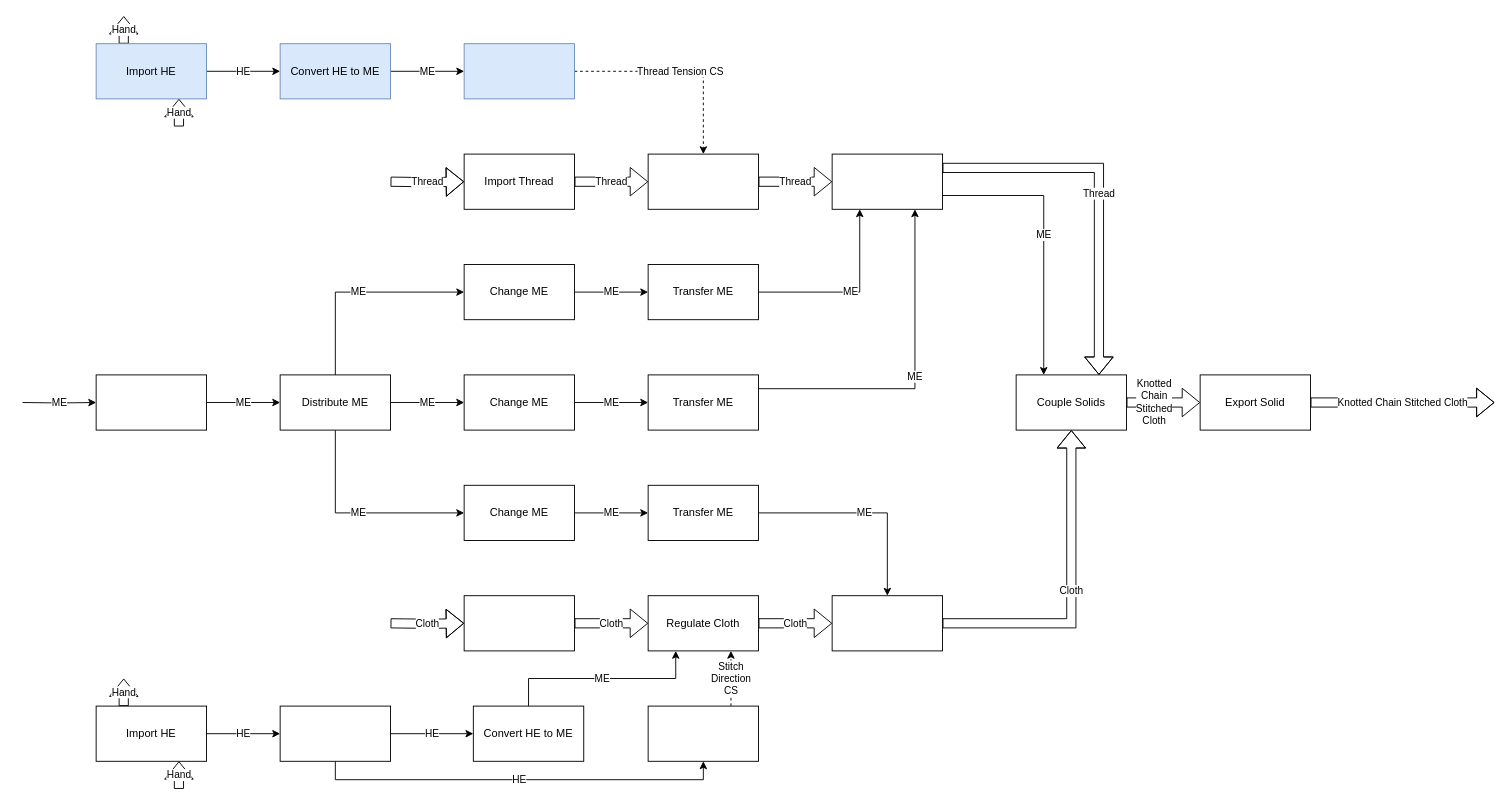
Some shapes in this 1511 by 804 pixel diagram are drawn without their labels. Each missing label, with the centre of its shape:
Convert HE to CS: (x=703, y=733)
Convert ME to CS: (x=519, y=71)
Distribute HE: (x=335, y=733)
Guide Cloth: (x=887, y=623)
Guide Thread: (x=887, y=181)
Import Cloth: (x=519, y=623)
Import ME: (x=151, y=402)
Regulate Thread: (x=703, y=181)
